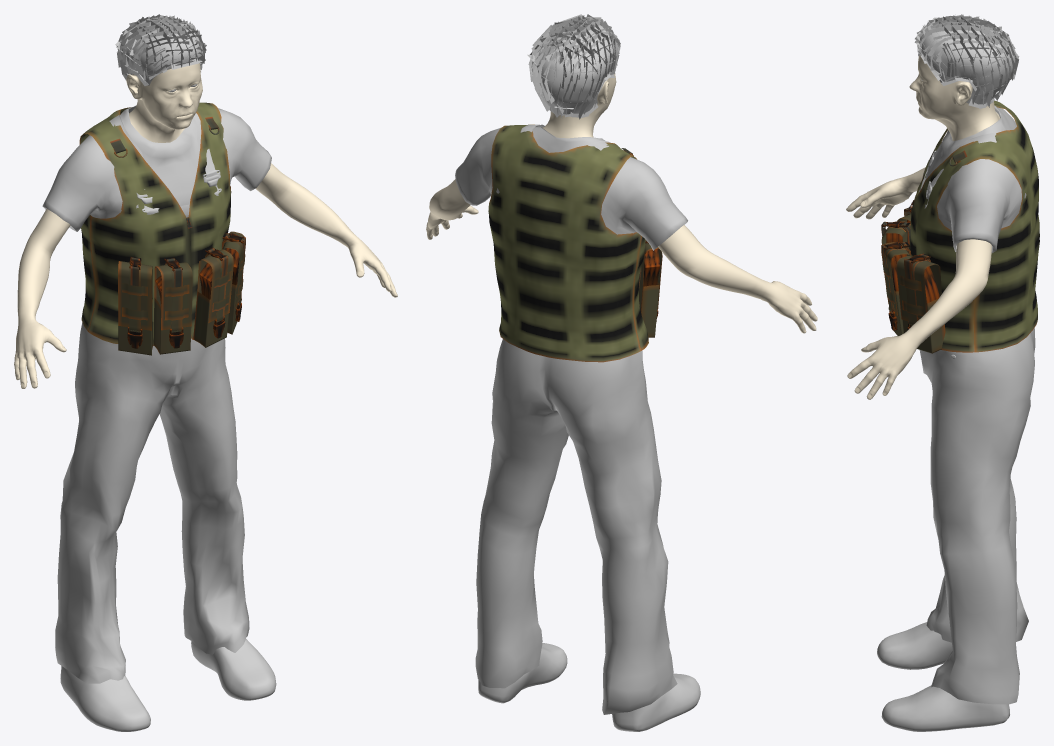
Rendered from policeMale.fbx.
The picture shows the model from 3 angles, left to right: view 1: azimuth 30°, elevation 25°; view 2: azimuth 150°, elevation 25°; view 3: azimuth 270°, elevation 25°; orthographic projection.
Parts seen in each view (by area): view 1: male_worksuit01Mesh, tactical_vest_maleMesh, policemaleMesh, shoes05Mesh, afro01Mesh; view 2: male_worksuit01Mesh, tactical_vest_maleMesh, policemaleMesh, afro01Mesh, shoes05Mesh; view 3: male_worksuit01Mesh, tactical_vest_maleMesh, policemaleMesh, afro01Mesh, shoes05Mesh.
Boxes of the visible parts, <box> form: male_worksuit01Mesh: <box>42,105,271,683</box>; tactical_vest_maleMesh: <box>79,102,245,355</box>; policemaleMesh: <box>14,63,397,388</box>; shoes05Mesh: <box>60,639,276,731</box>; afro01Mesh: <box>115,14,206,85</box>; male_worksuit01Mesh: <box>455,124,687,714</box>; tactical_vest_maleMesh: <box>488,124,662,362</box>; policemaleMesh: <box>426,73,817,333</box>; afro01Mesh: <box>527,14,620,119</box>; shoes05Mesh: <box>478,643,700,731</box>; male_worksuit01Mesh: <box>919,105,1035,704</box>; tactical_vest_maleMesh: <box>881,100,1039,353</box>; policemaleMesh: <box>846,55,1000,399</box>; afro01Mesh: <box>914,14,1019,108</box>; shoes05Mesh: <box>877,622,1009,731</box>.
Size of the model in its own units: 10.27 by 17.52 by 4.56.
